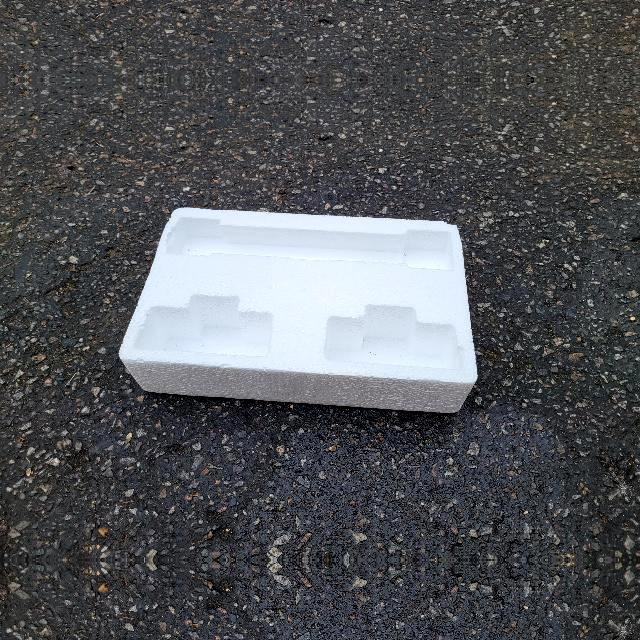Styrofoam: (119, 206, 478, 416), (119, 207, 478, 413)
